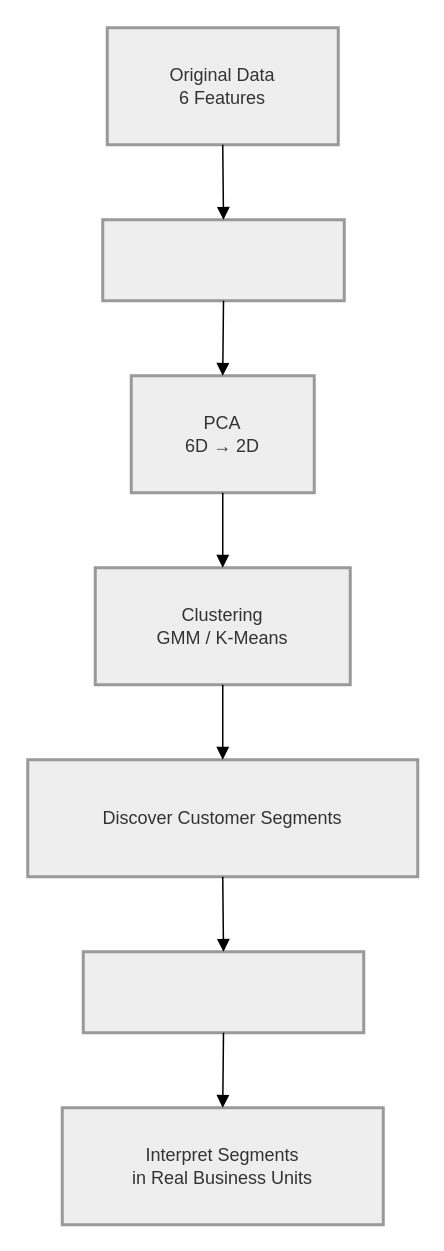
This 444x1251 diagram has some shape labels left out. Each missing label, with the box of its shape:
Inverse PCA + Exp: (81, 950, 364, 1034)
Log Transform: (100, 218, 345, 302)
